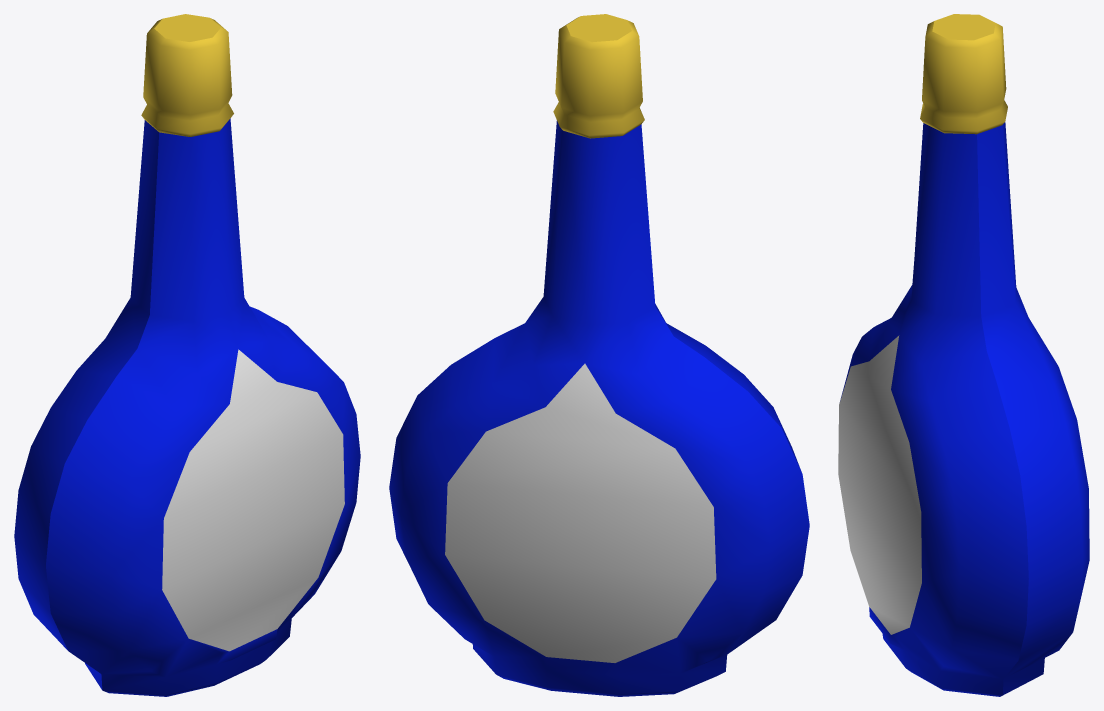
Rendered from BlueGoldLid.fbx.
3 renders of one model, left to right at view 1: azimuth 30°, elevation 25°; view 2: azimuth 150°, elevation 25°; view 3: azimuth 270°, elevation 25°, orthographic. The views are drawn at different scales.
Visible parts, largest first — view 1: BlueGoldLid; view 2: BlueGoldLid; view 3: BlueGoldLid.
Part boxes in pixels (bbox=[...]): BlueGoldLid: bbox=[14, 14, 360, 696]; BlueGoldLid: bbox=[389, 14, 809, 696]; BlueGoldLid: bbox=[838, 14, 1089, 696].
Size of the model in its own units: 13.43 by 23.11 by 8.45.
